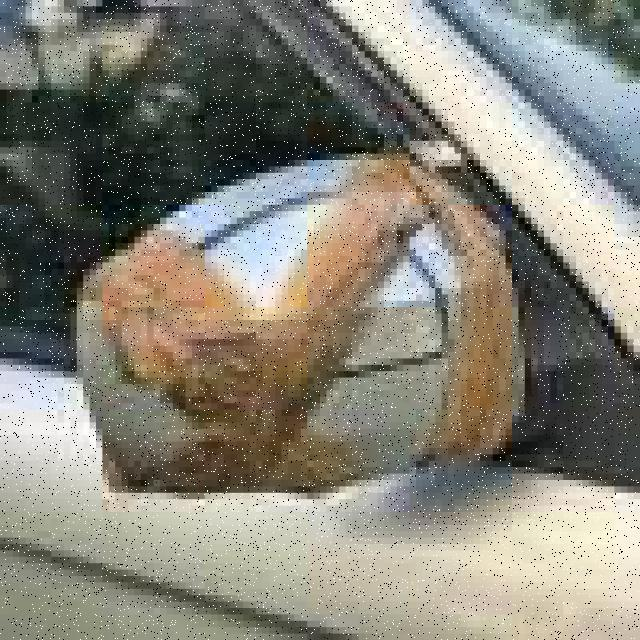Sidemirror-Damage: (58, 154, 512, 506)
